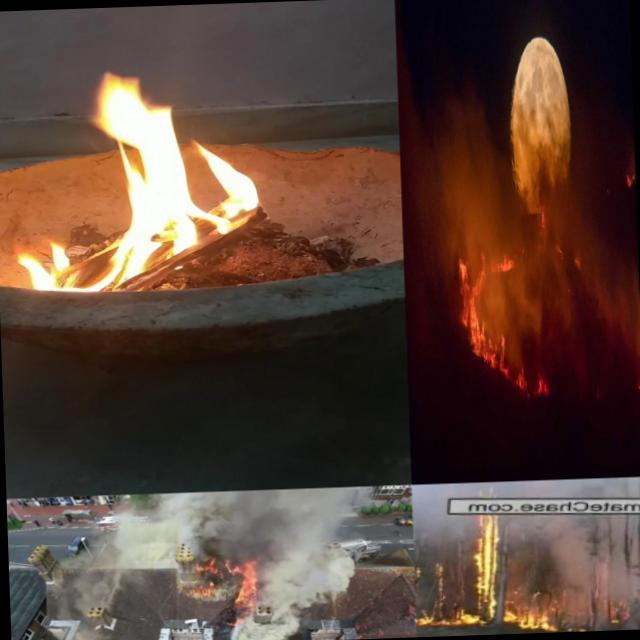fire: (5, 44, 278, 295), (465, 514, 508, 629), (457, 245, 488, 359), (508, 592, 574, 634), (231, 556, 263, 604), (514, 366, 552, 406), (489, 244, 520, 286), (416, 606, 468, 630), (487, 331, 514, 377), (181, 582, 218, 601), (196, 563, 230, 583), (571, 235, 585, 272), (552, 228, 562, 275), (536, 194, 546, 239), (624, 160, 636, 192), (593, 378, 603, 402), (635, 364, 640, 402)
smoke: (252, 487, 370, 605), (570, 522, 640, 631), (68, 546, 174, 606), (504, 517, 572, 594), (105, 492, 196, 549), (196, 490, 254, 569), (226, 594, 303, 640)
